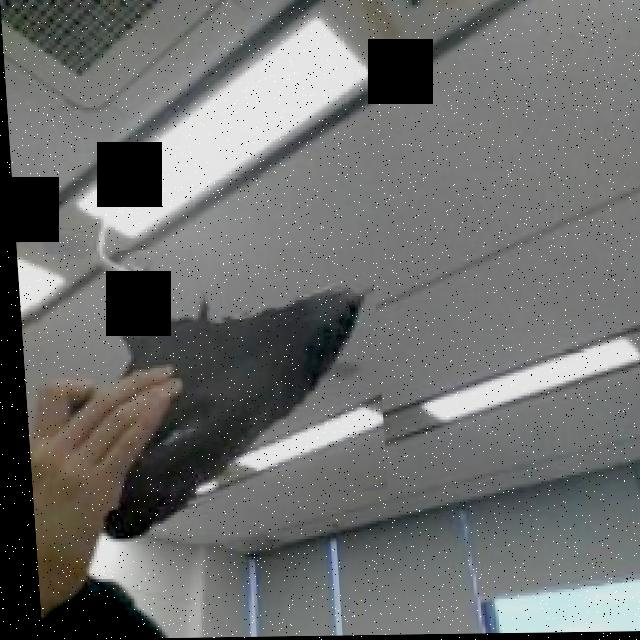shoe: (23, 248, 382, 515)
